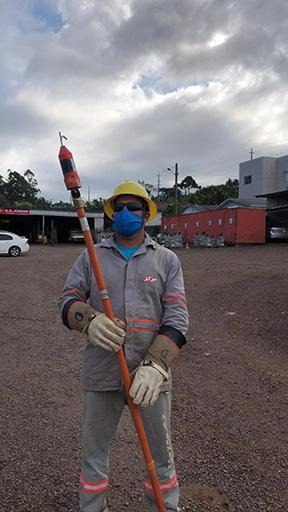Detector_Tensao_Contato: (56, 130, 82, 189)
Vara_Manobra: (70, 194, 165, 512)
